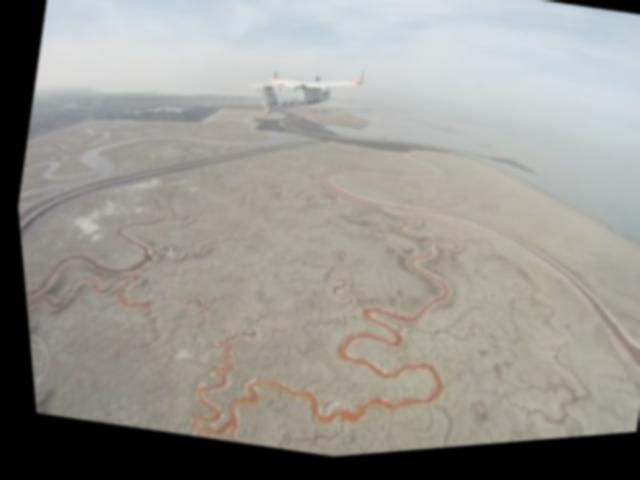uav: (228, 47, 376, 161)
